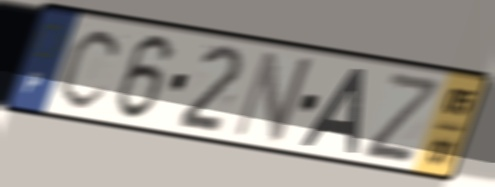2: (171, 43, 246, 136)
6: (109, 32, 177, 124)
A: (297, 64, 370, 157)
C: (55, 25, 126, 112)
N: (228, 46, 318, 145)
Z: (360, 68, 442, 163)
